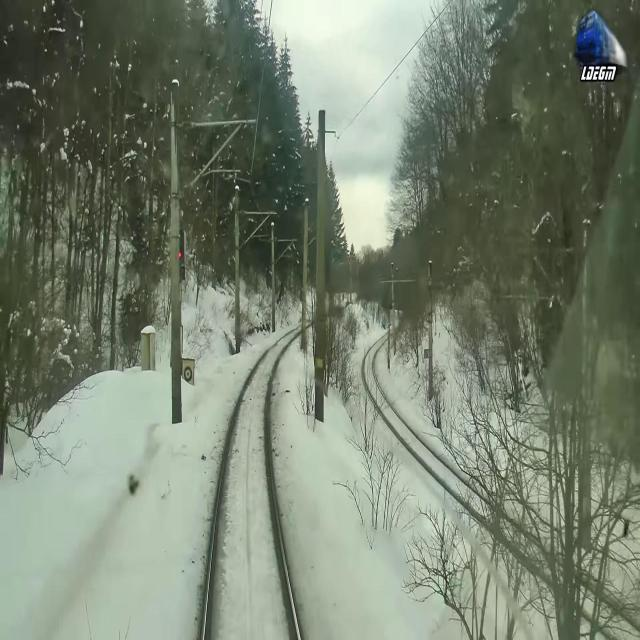rail-track: (364, 338, 640, 639), (205, 327, 301, 639)
